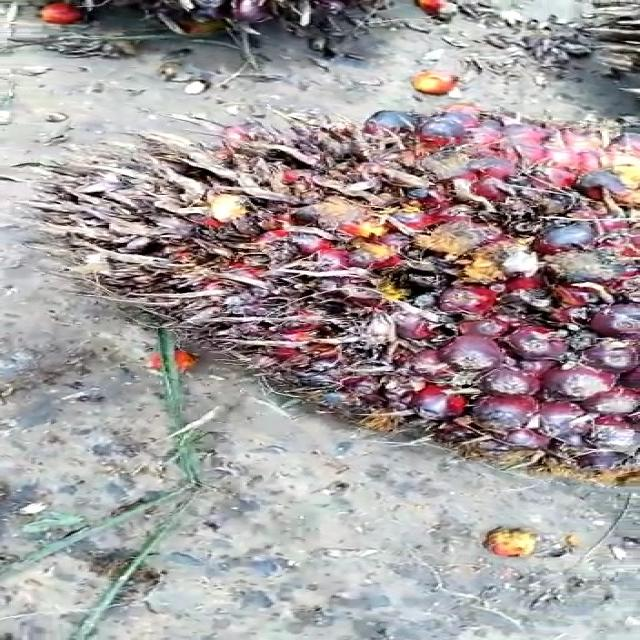palm oil: (48, 92, 640, 496)
